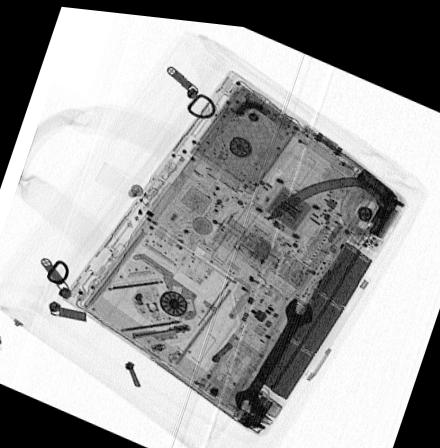Wrench: (231, 292, 311, 411)
